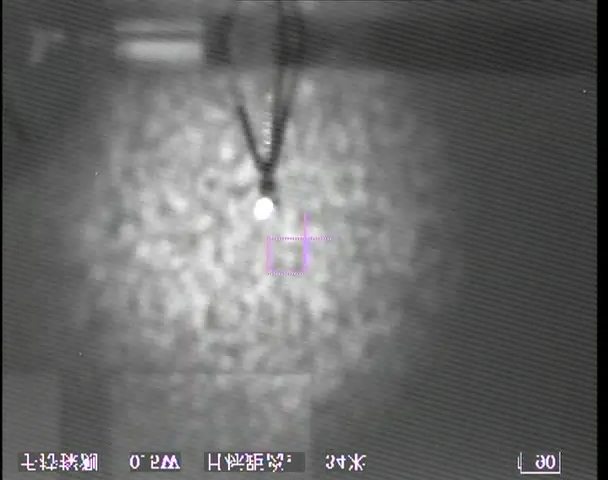my: (251, 195, 276, 220)
